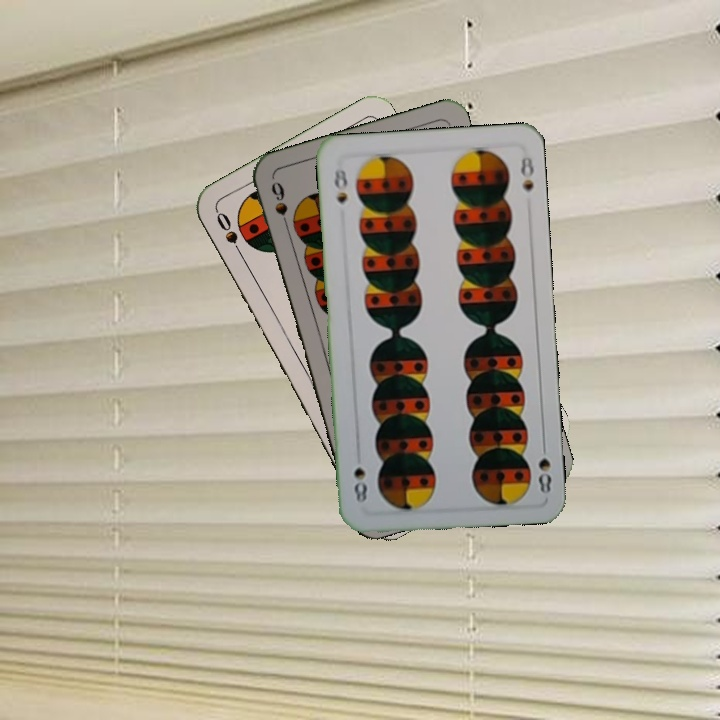S8: (534, 437, 555, 497), (330, 165, 351, 207)
S9: (267, 177, 293, 235)
SO: (212, 207, 248, 262)
